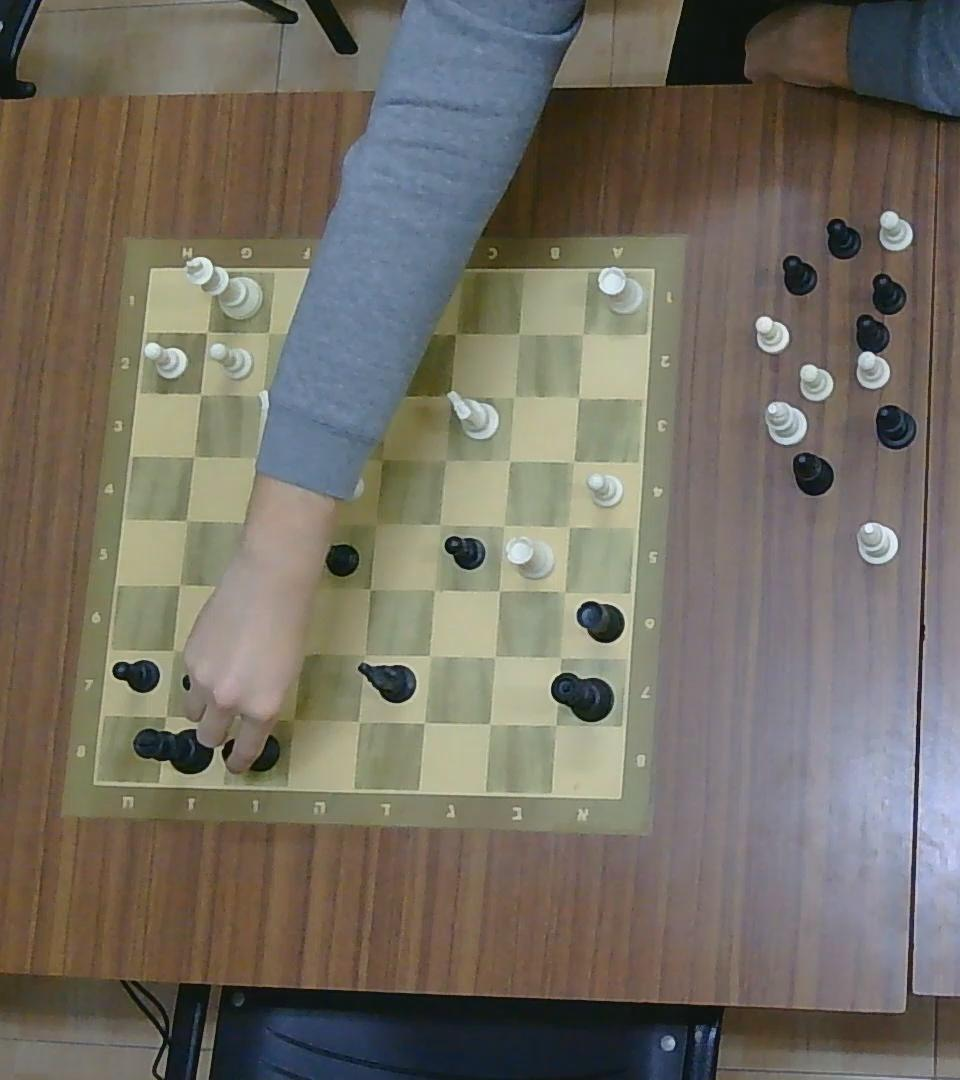xcorner: (165, 569, 193, 598), (160, 635, 188, 664), (151, 701, 180, 729), (321, 318, 347, 349), (476, 709, 503, 738), (380, 316, 407, 345), (542, 711, 569, 739), (350, 641, 378, 668), (215, 703, 242, 731), (251, 381, 279, 408), (242, 443, 269, 471), (411, 707, 437, 736), (345, 706, 371, 734), (280, 704, 305, 733), (295, 510, 320, 539), (228, 572, 253, 601), (293, 574, 318, 603), (506, 318, 532, 345), (547, 644, 573, 671), (417, 641, 443, 668), (481, 642, 506, 669), (486, 577, 511, 604), (443, 318, 468, 345), (551, 578, 576, 605), (288, 639, 313, 666), (317, 380, 340, 409), (230, 509, 254, 536), (195, 317, 219, 344), (561, 448, 586, 473), (225, 640, 250, 665), (180, 442, 204, 468), (557, 513, 581, 539), (502, 383, 526, 409), (257, 319, 281, 345), (377, 383, 401, 409), (174, 506, 197, 533), (362, 510, 386, 535), (491, 512, 515, 537), (187, 380, 211, 405), (358, 576, 382, 601), (421, 576, 445, 601), (438, 382, 462, 407), (427, 511, 450, 537), (566, 384, 590, 408), (433, 446, 456, 471), (309, 445, 330, 472), (570, 320, 593, 344), (370, 447, 393, 470), (498, 448, 520, 472)
